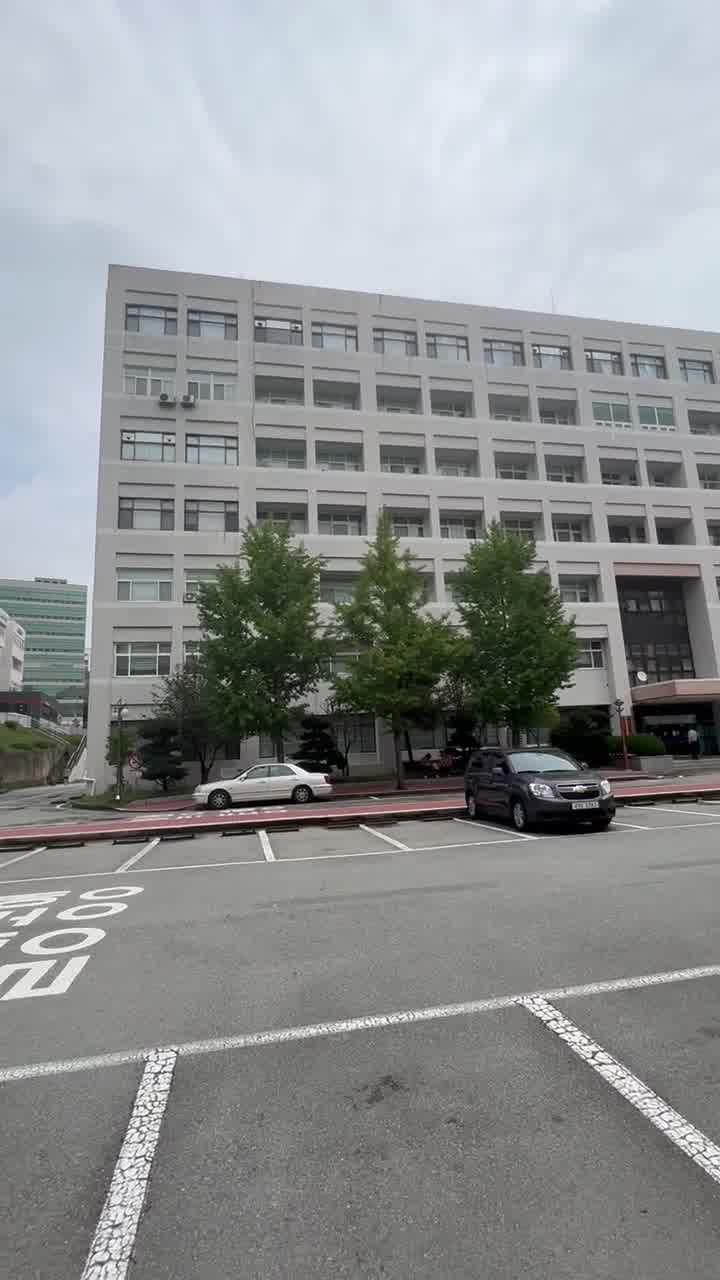building: (80, 268, 708, 550)
